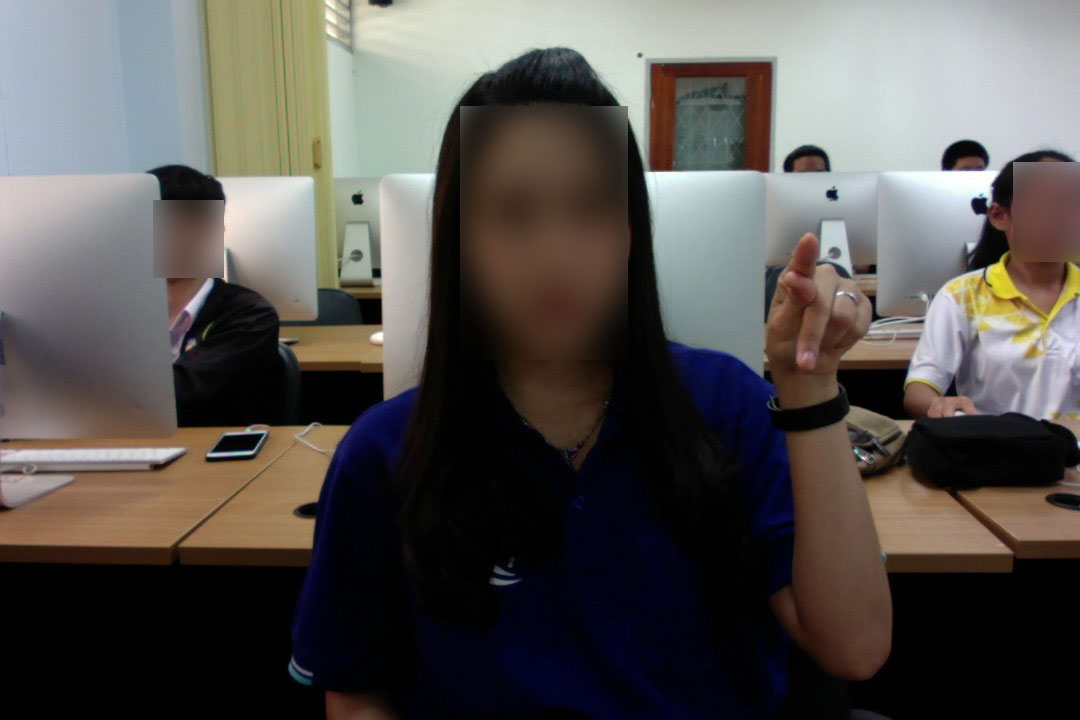por: (760, 226, 877, 394)
